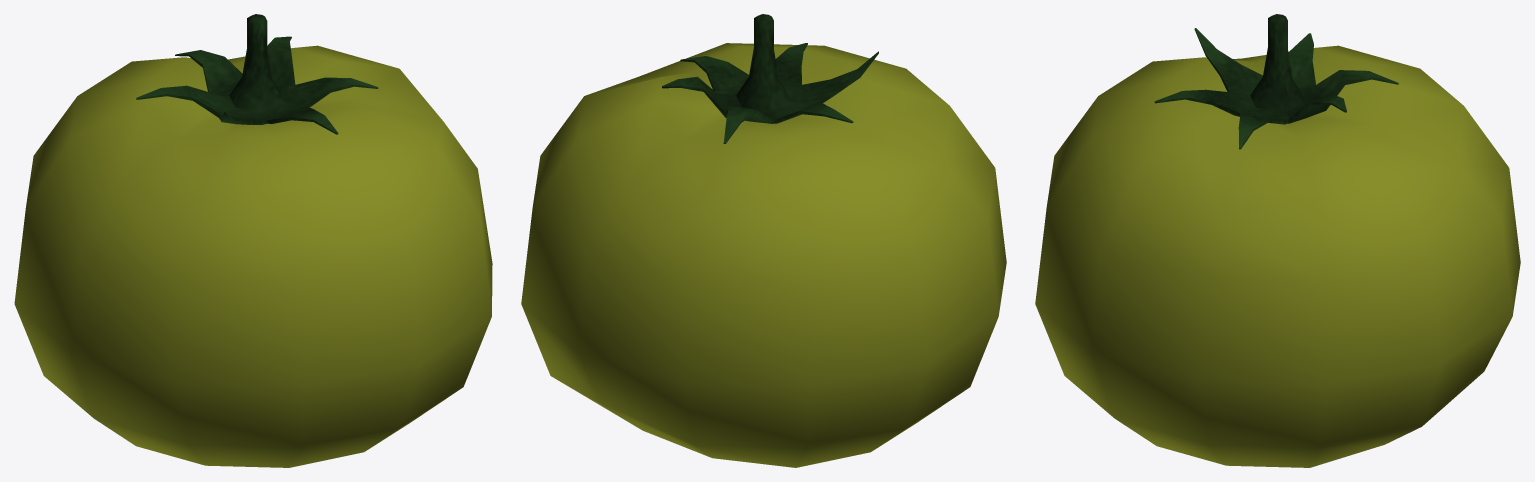
The model's file is Tomato Green.fbx.
3 renders of one model, left to right at view 1: azimuth 30°, elevation 25°; view 2: azimuth 150°, elevation 25°; view 3: azimuth 270°, elevation 25°, orthographic.
Visible parts, largest first — view 1: Tomato._green; view 2: Tomato._green; view 3: Tomato._green.
Part boxes in pixels (x1=…): Tomato._green: x1=14, y1=14, x2=492, y2=467; Tomato._green: x1=521, y1=14, x2=1006, y2=467; Tomato._green: x1=1035, y1=14, x2=1520, y2=467.
Bounding box in the file's own units: 193 × 180 × 193.
